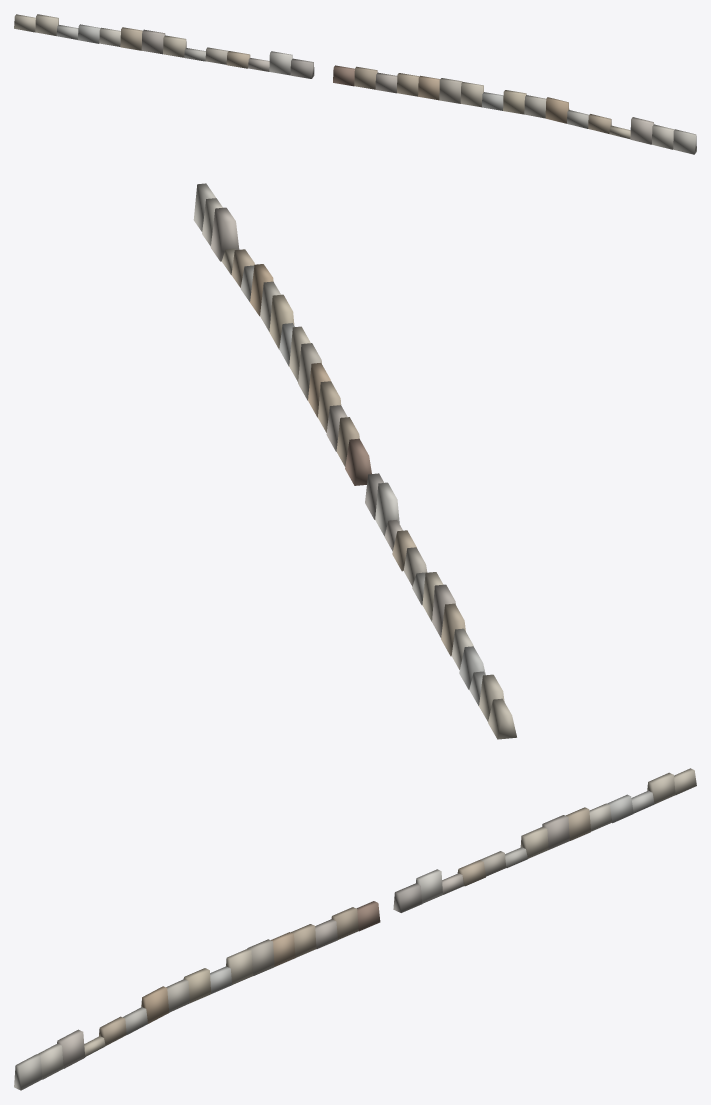
File: farm_4_2_collision.glb
The picture shows the model from 3 angles, top to bottom: view 1: azimuth 30°, elevation 25°; view 2: azimuth 150°, elevation 25°; view 3: azimuth 270°, elevation 25°; orthographic projection. The views are drawn at different scales.
Visible parts, largest first — view 1: geometry_0; view 2: geometry_0; view 3: geometry_0.
Part boxes in pixels (left/top/right/bottom): geometry_0: left=14, top=14, right=696, bottom=154; geometry_0: left=193, top=183, right=516, bottom=739; geometry_0: left=14, top=768, right=696, bottom=1090.
Size of the model in its own units: 34.95 by 3.91 by 38.24.
